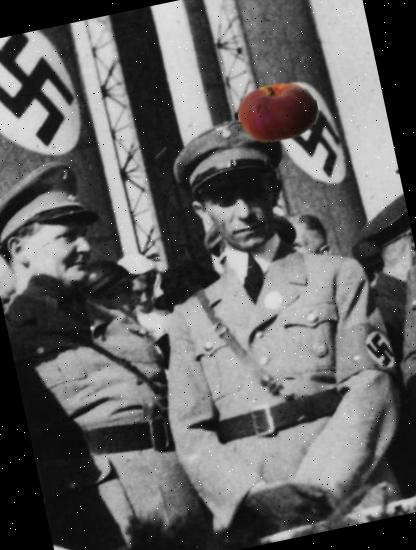Nectarine: (230, 64, 325, 160)
